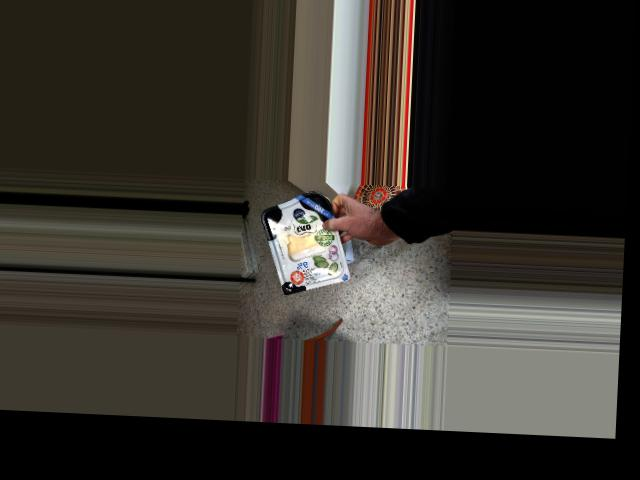cheese: (266, 196, 338, 290)
